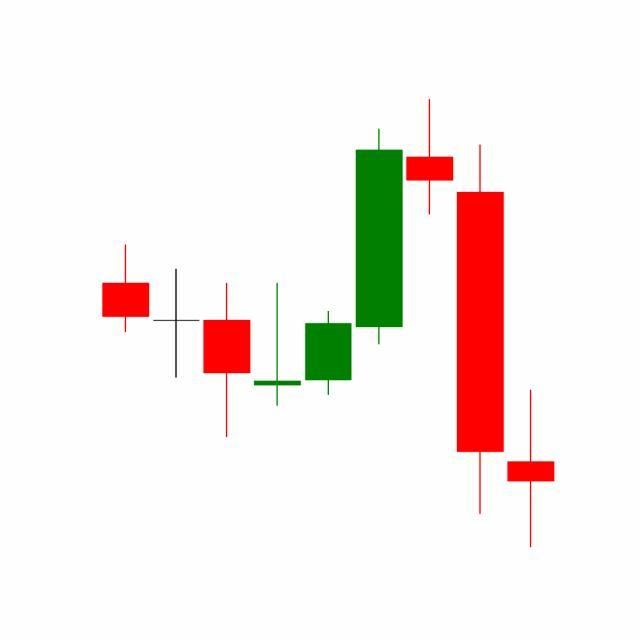Hikkake Pattern: (252, 99, 506, 519)
